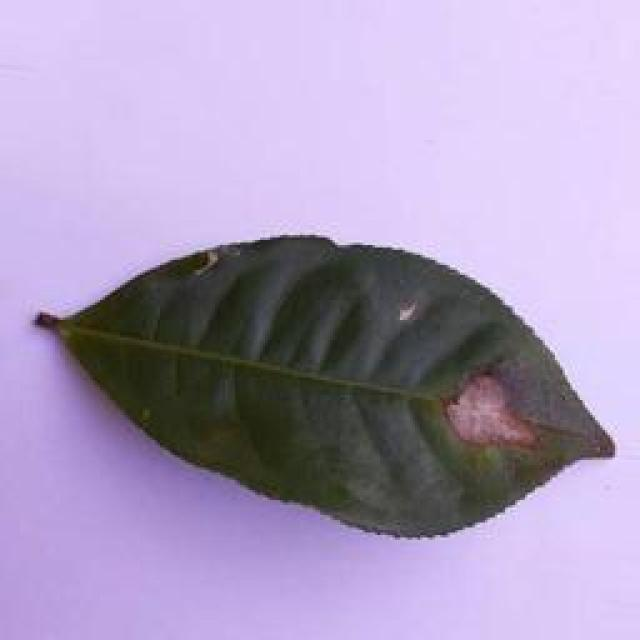Gray Blight: (35, 230, 619, 541)
